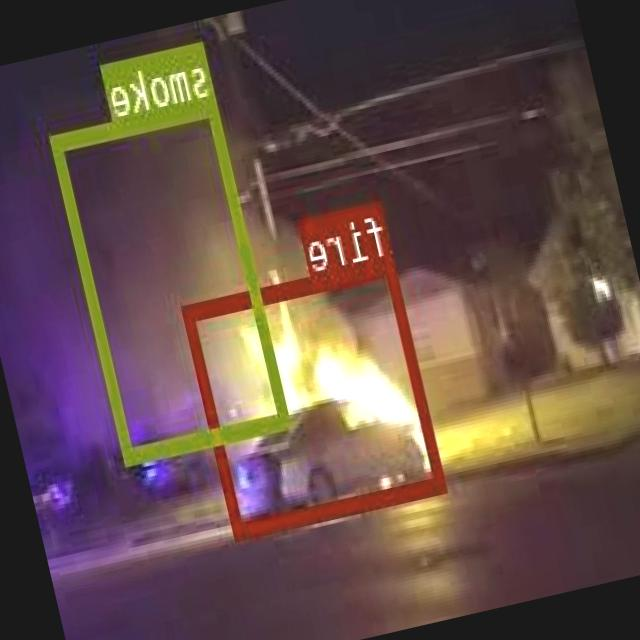fire: (184, 252, 448, 534)
smoke: (51, 97, 292, 462)
